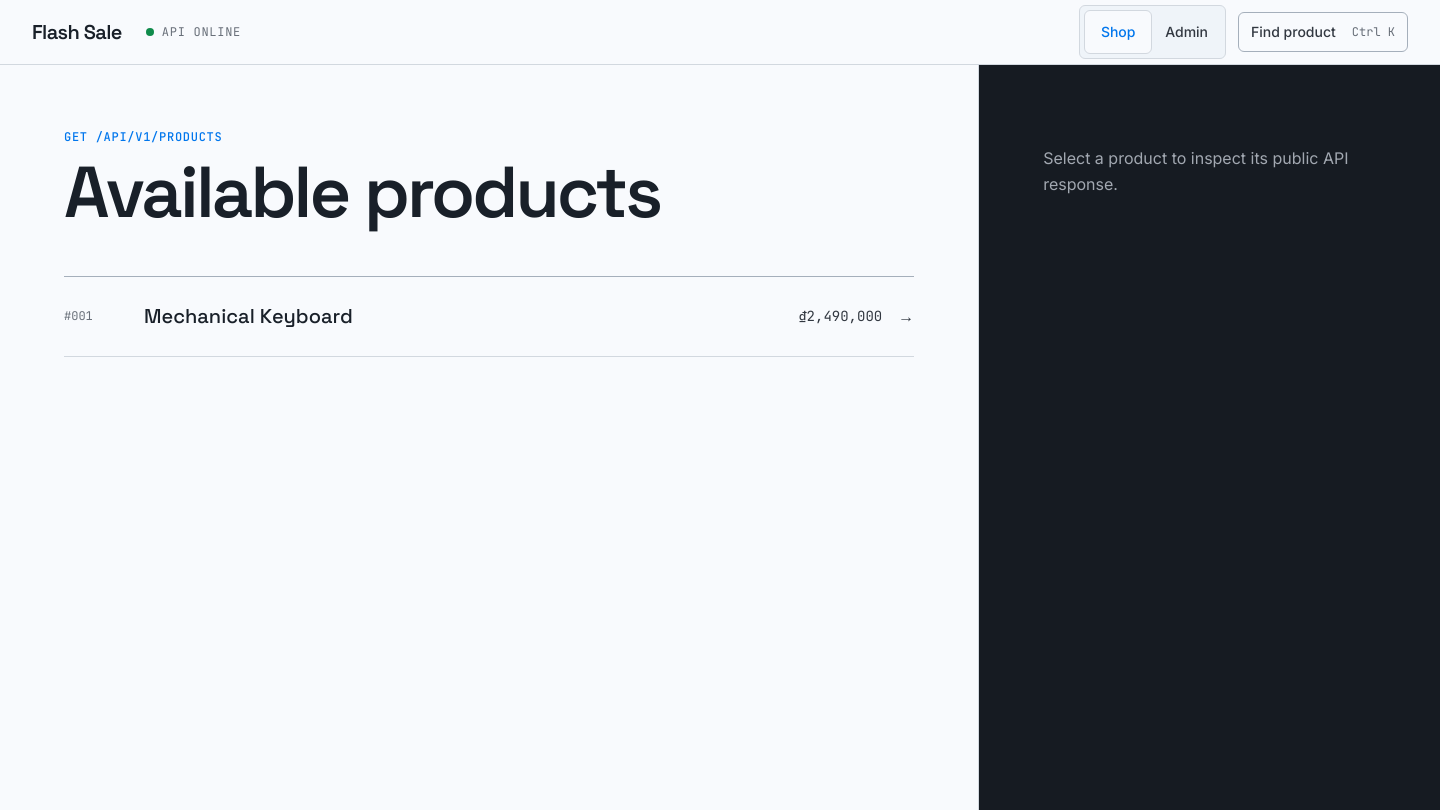
Test case: App › lets a customer intentionally replay the same Order request
Click the button "#001 Mechanical Keyboard ₫2,490,000 →" at {"x": 248, "y": 316}, box left=64, top=276, right=914, bottom=356
(page scrolled)
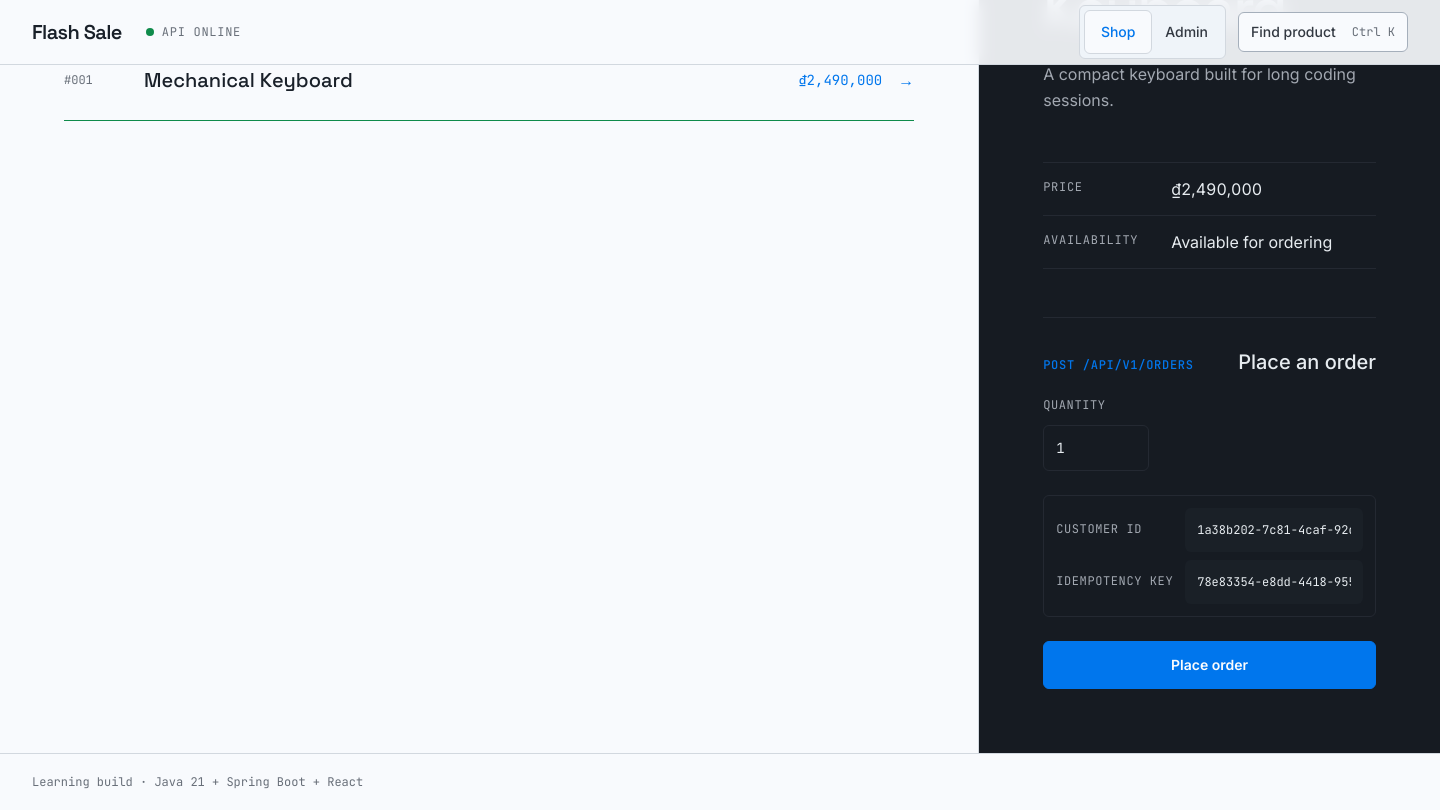
Click the button "Place order" at {"x": 1210, "y": 665}, box left=1043, top=641, right=1376, bottom=689
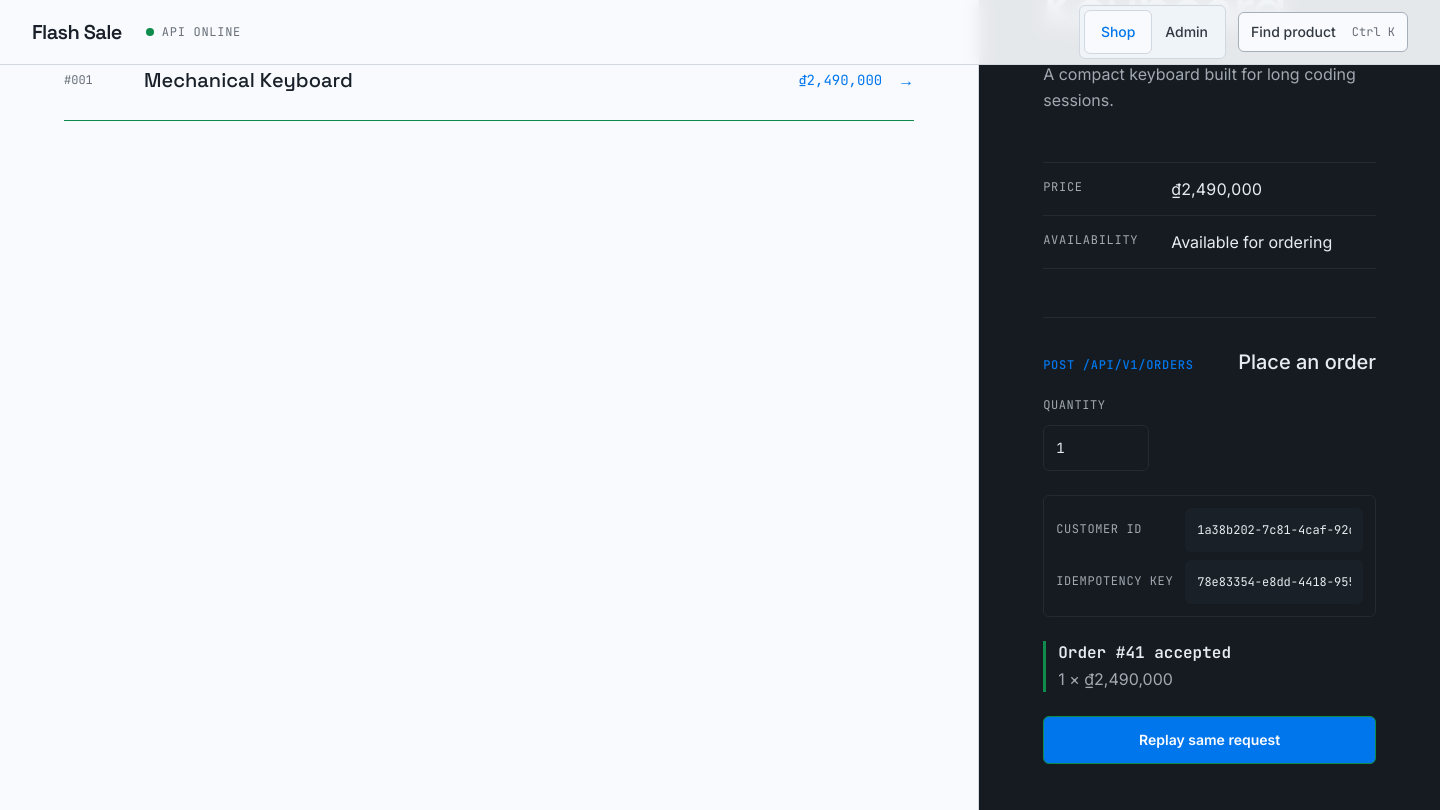
Click the button "Replay same request" at {"x": 1210, "y": 740}, box left=1043, top=716, right=1376, bottom=764
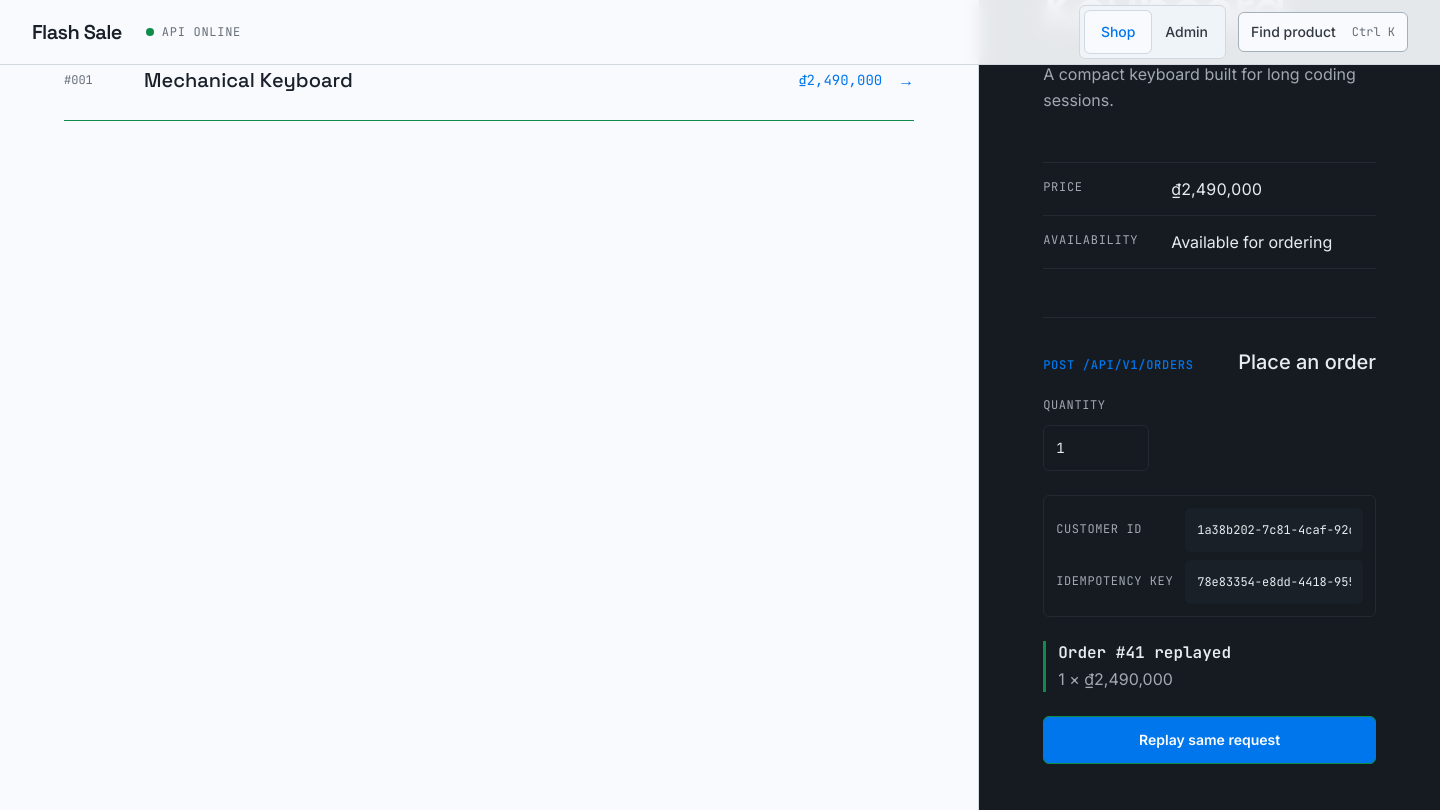
Result: the text "Order #41 replayed" is shown at left=1058, top=642, right=1231, bottom=663
